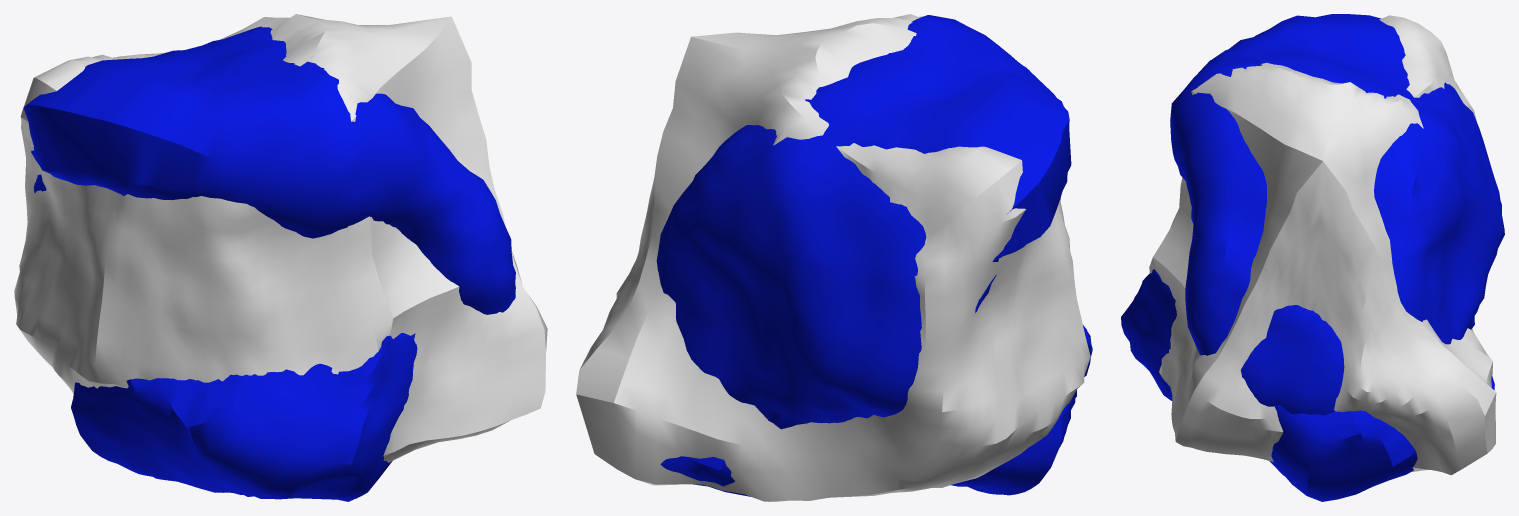
The model's file is Rock.fbx.
3 views of the same model, side by side, from view 1: azimuth 30°, elevation 25°; view 2: azimuth 150°, elevation 25°; view 3: azimuth 270°, elevation 25° (orthographic). The views are drawn at different scales.
Visible parts, largest first — view 1: Rock; view 2: Rock; view 3: Rock.
Boxes of the visible parts, x1,y1,x2,y2 form: Rock: (14,14,547,501); Rock: (576,14,1092,501); Rock: (1121,14,1504,501).
Size of the model in its own units: 134 by 135 by 120.
